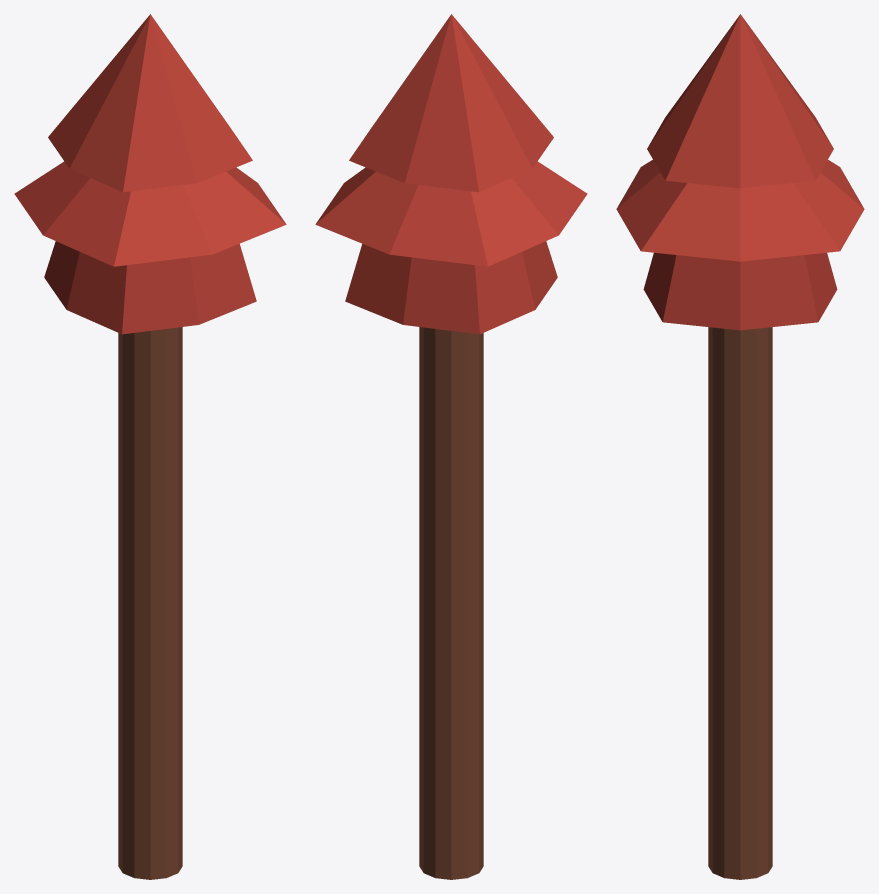
Rendered from Tree_20_summer_red_vc.fbx.
The picture shows the model from 3 angles, left to right: view 1: azimuth 30°, elevation 25°; view 2: azimuth 150°, elevation 25°; view 3: azimuth 270°, elevation 25°; orthographic projection.
Visible parts, largest first — view 1: Tree_20_summer_red_vc; view 2: Tree_20_summer_red_vc; view 3: Tree_20_summer_red_vc.
Part boxes in pixels (bbox=[...]): Tree_20_summer_red_vc: bbox=[14, 14, 286, 879]; Tree_20_summer_red_vc: bbox=[315, 14, 587, 879]; Tree_20_summer_red_vc: bbox=[616, 14, 864, 879].
Size of the model in its own units: 85.54 by 324 by 85.54.
